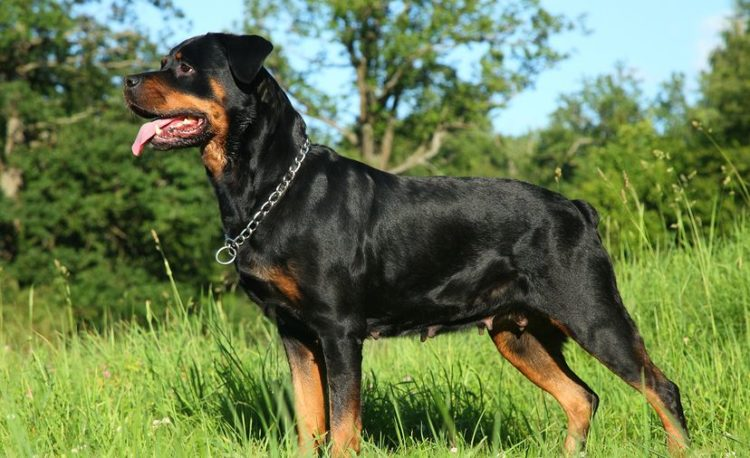dog: (124, 30, 693, 458)
